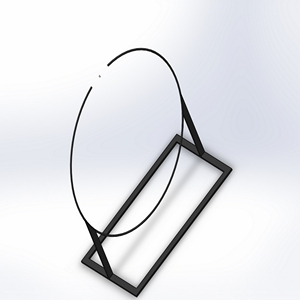circle: (68, 45, 234, 296)
